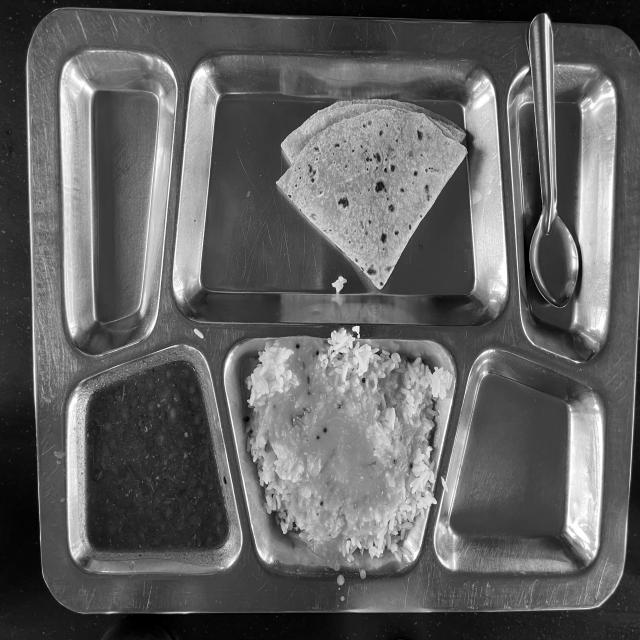70-Food-Left: (42, 19, 608, 586)
